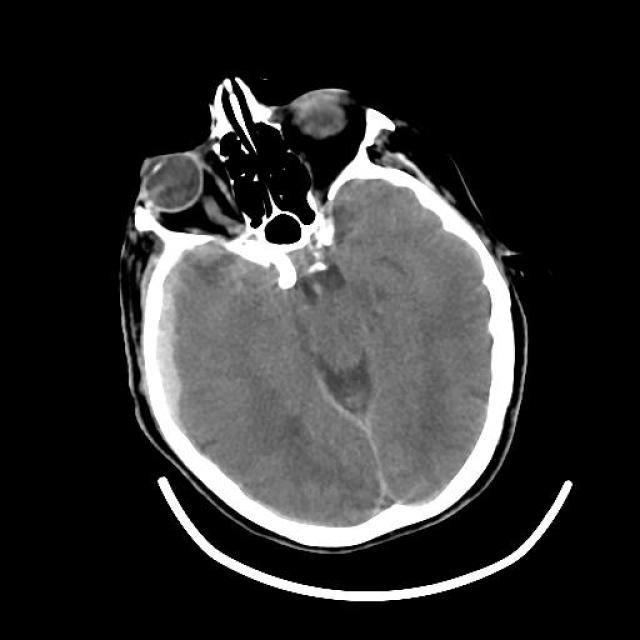Subdural: (129, 242, 219, 432)
